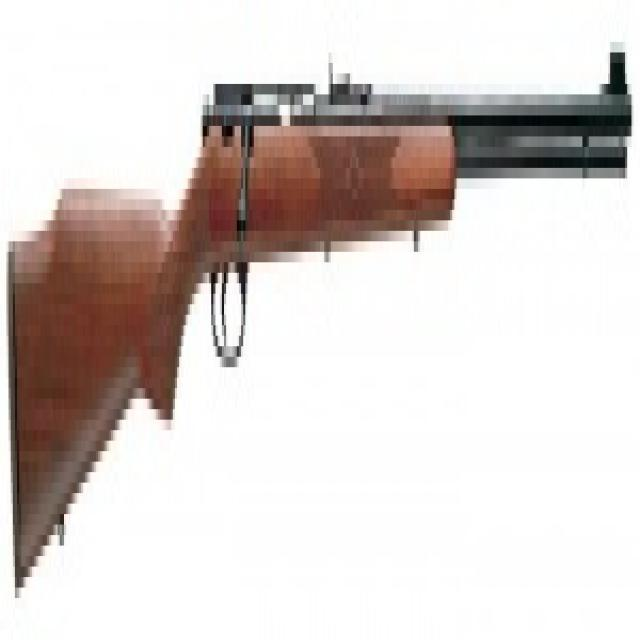weapon: (6, 29, 634, 617)
